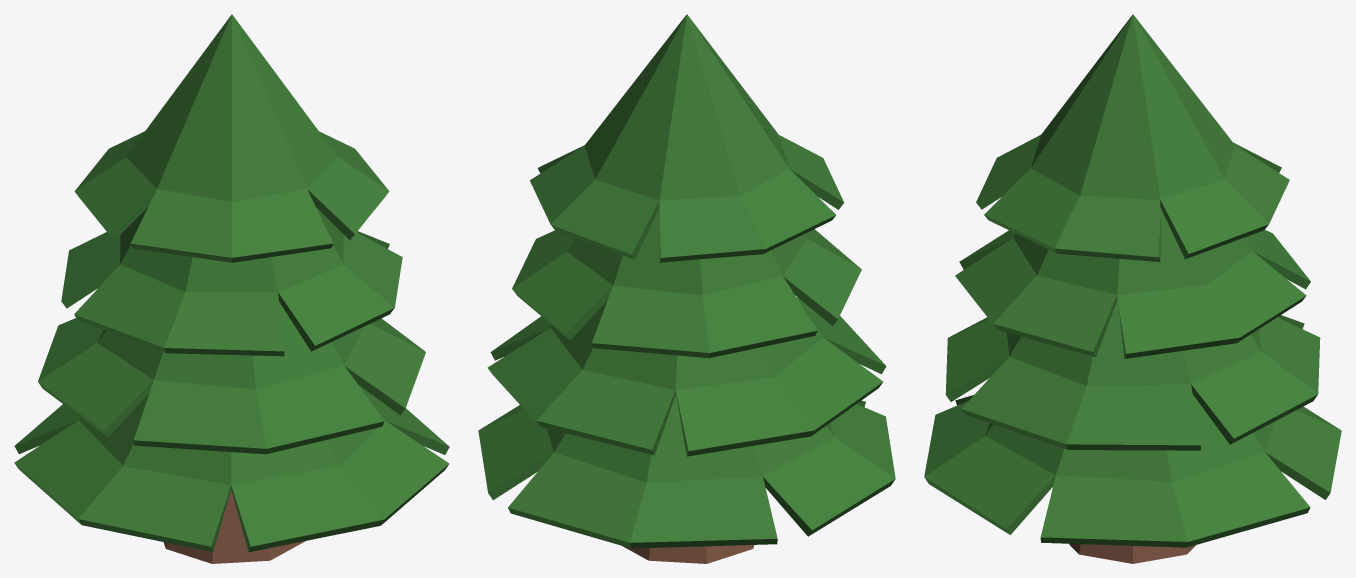
Rendered from LongTree.fbx.
3 renders of one model, left to right at view 1: azimuth 30°, elevation 25°; view 2: azimuth 150°, elevation 25°; view 3: azimuth 270°, elevation 25°, orthographic.
Visible parts, largest first — view 1: LongTree; view 2: LongTree; view 3: LongTree.
Part boxes in pixels (bbox=[...]): LongTree: bbox=[14, 14, 449, 563]; LongTree: bbox=[478, 14, 895, 563]; LongTree: bbox=[924, 14, 1341, 563].
Bounding box in the file's own units: 4314 × 5902 × 4314.
